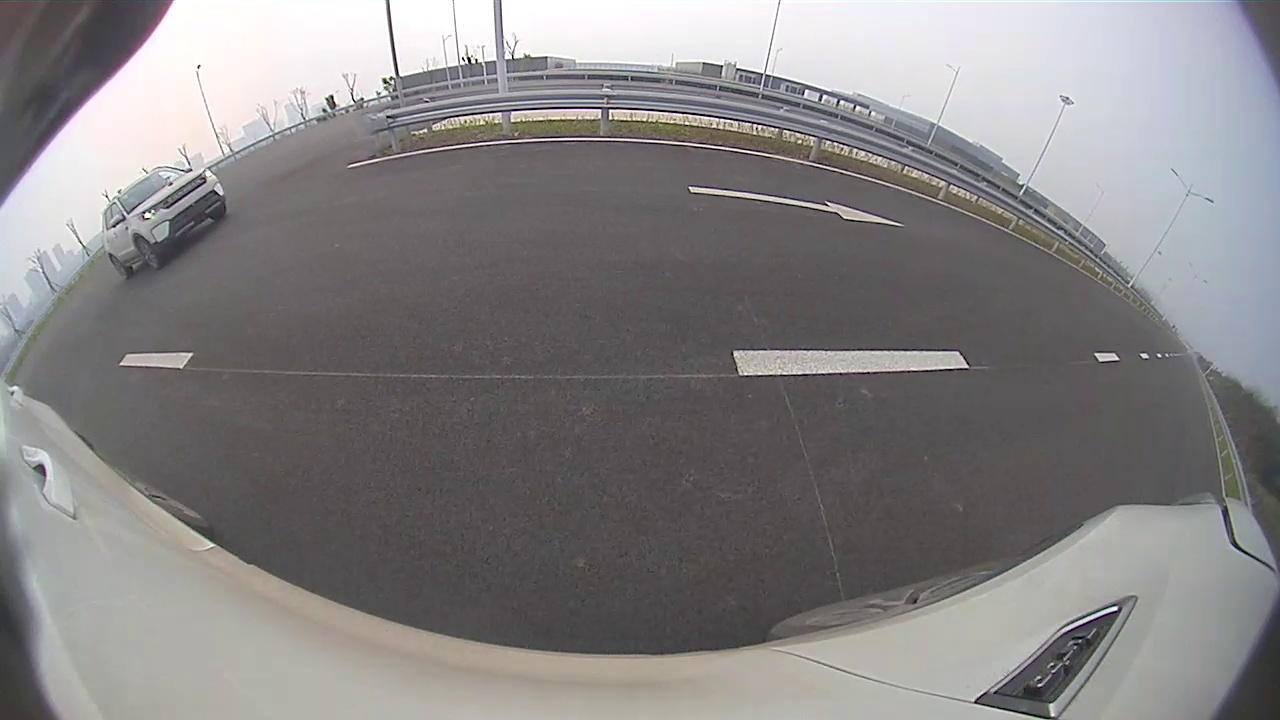car: (102, 164, 227, 280)
front: (133, 237, 163, 274)
